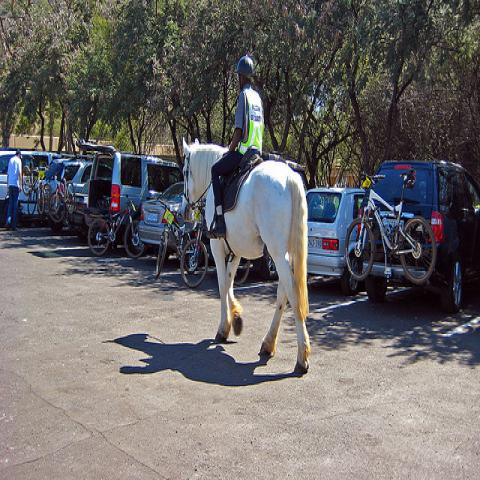car: (361, 156, 479, 312), (76, 141, 184, 230), (305, 186, 366, 296), (0, 147, 63, 227), (38, 158, 93, 234), (137, 182, 198, 244), (68, 181, 90, 238)
truck: (374, 159, 480, 313), (72, 135, 184, 230)
